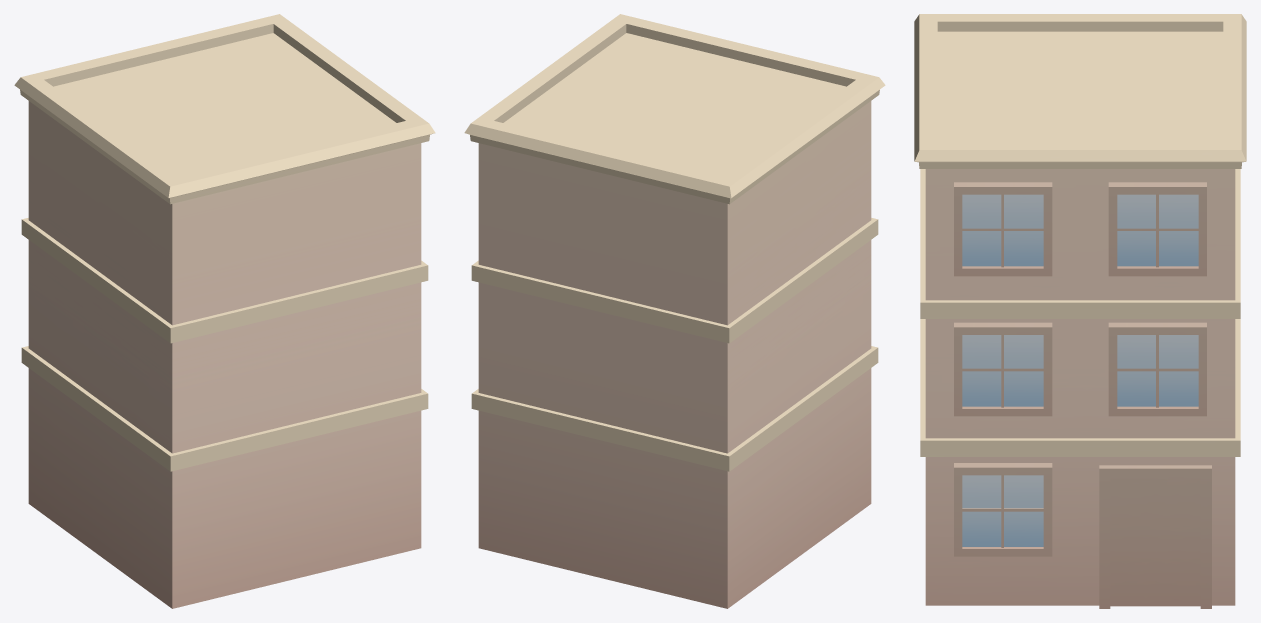
Rendered from Gebeude_1.glb.
The picture shows the model from 3 angles, left to right: view 1: azimuth 30°, elevation 25°; view 2: azimuth 150°, elevation 25°; view 3: azimuth 270°, elevation 25°; orthographic projection. The views are drawn at different scales.
Visible parts, largest first — view 1: Haus1; view 2: Haus1; view 3: Haus1.
Part boxes in pixels (left/top/right/bottom): Haus1: left=14, top=14, right=435, bottom=608; Haus1: left=464, top=14, right=885, bottom=608; Haus1: left=914, top=14, right=1246, bottom=608.
Size of the model in its own units: 6.08 by 9.25 by 6.07.
Materials: 1 (1 with a texture image).
